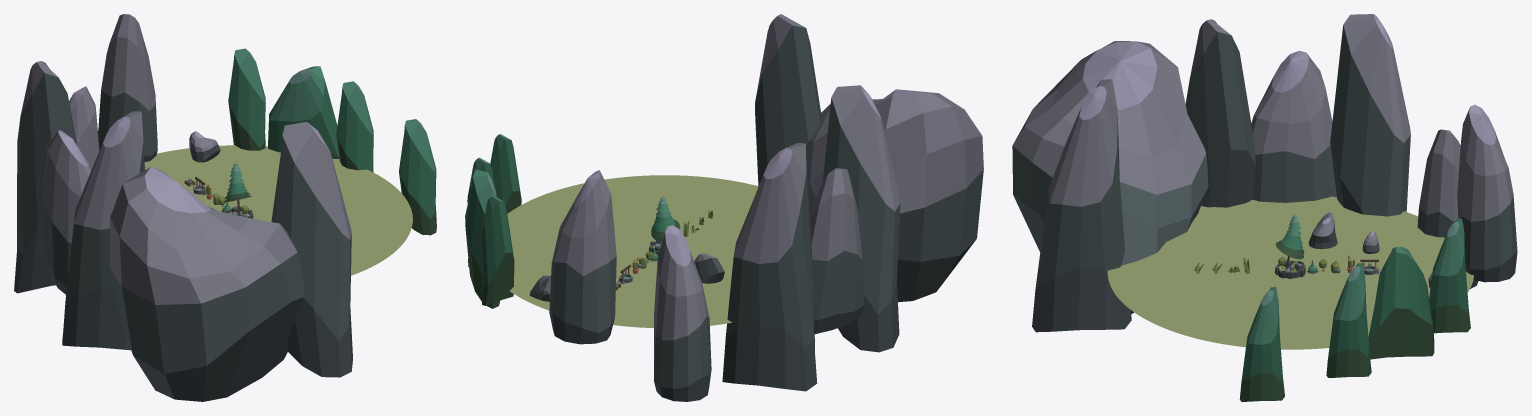
File: CenterTree.fbx
The picture shows the model from 3 angles, left to right: view 1: azimuth 30°, elevation 25°; view 2: azimuth 150°, elevation 25°; view 3: azimuth 270°, elevation 25°; orthographic projection. The views are drawn at different scales.
Parts seen in each view (by area): view 1: Stone 03.001, Stone 01.002, Platform, Stone 01.001, Stone 01.003, Stone 02.003, Stone 02, Stone 01.006, Stone 01.004, Stone 01.005, Stone 01.007, Stone 02.002 (+2 smaller); view 2: Stone 01.003, Platform, Stone 03.001, Stone 01.001, Stone 02.003, Stone 02.002, Stone 01.002, Stone 02, Stone 01.005, Stone 01.006, Stone 01.004, Tanne (+1 smaller); view 3: Platform, Stone 03.001, Stone 01.002, Stone 01.003, Stone 02, Stone 01.001, Stone 02.003, Stone 01.006, Stone 01.007, Stone 01.004, Stone 02.002, Stone 01.005 (+2 smaller).
Boxes of the visible parts, x1,y1,x2,y2 form: Stone 03.001: [109, 166, 303, 401]; Stone 01.002: [271, 121, 352, 377]; Platform: [144, 145, 412, 275]; Stone 01.001: [62, 111, 144, 350]; Stone 01.003: [14, 61, 76, 293]; Stone 02.003: [98, 14, 157, 161]; Stone 02: [42, 130, 91, 294]; Stone 01.006: [268, 66, 339, 158]; Stone 01.004: [399, 119, 436, 235]; Stone 01.005: [228, 48, 265, 150]; Stone 01.007: [336, 81, 373, 172]; Stone 02.002: [69, 86, 99, 168]; Stone 01.003: [722, 142, 817, 391]; Platform: [507, 175, 758, 327]; Stone 03.001: [806, 89, 983, 302]; Stone 01.001: [822, 85, 900, 352]; Stone 02.003: [549, 170, 616, 344]; Stone 02.002: [654, 225, 711, 401]; Stone 01.002: [755, 14, 820, 186]; Stone 02: [810, 168, 864, 334]; Stone 01.005: [481, 195, 514, 305]; Stone 01.006: [465, 169, 499, 308]; Stone 01.004: [490, 134, 521, 213]; Tanne: [649, 196, 680, 255]; Platform: [1107, 196, 1473, 349]; Stone 03.001: [1012, 41, 1208, 313]; Stone 01.002: [1032, 79, 1131, 332]; Stone 01.003: [1330, 14, 1410, 216]; Stone 02: [1251, 50, 1336, 202]; Stone 01.001: [1185, 19, 1255, 207]; Stone 02.003: [1457, 104, 1517, 282]; Stone 01.006: [1368, 246, 1434, 359]; Stone 01.007: [1326, 263, 1371, 377]; Stone 01.004: [1239, 287, 1284, 401]; Stone 02.002: [1417, 129, 1478, 288]; Stone 01.005: [1429, 218, 1470, 333].
Bounding box in the file's own units: 12666 × 7255 × 13726.
